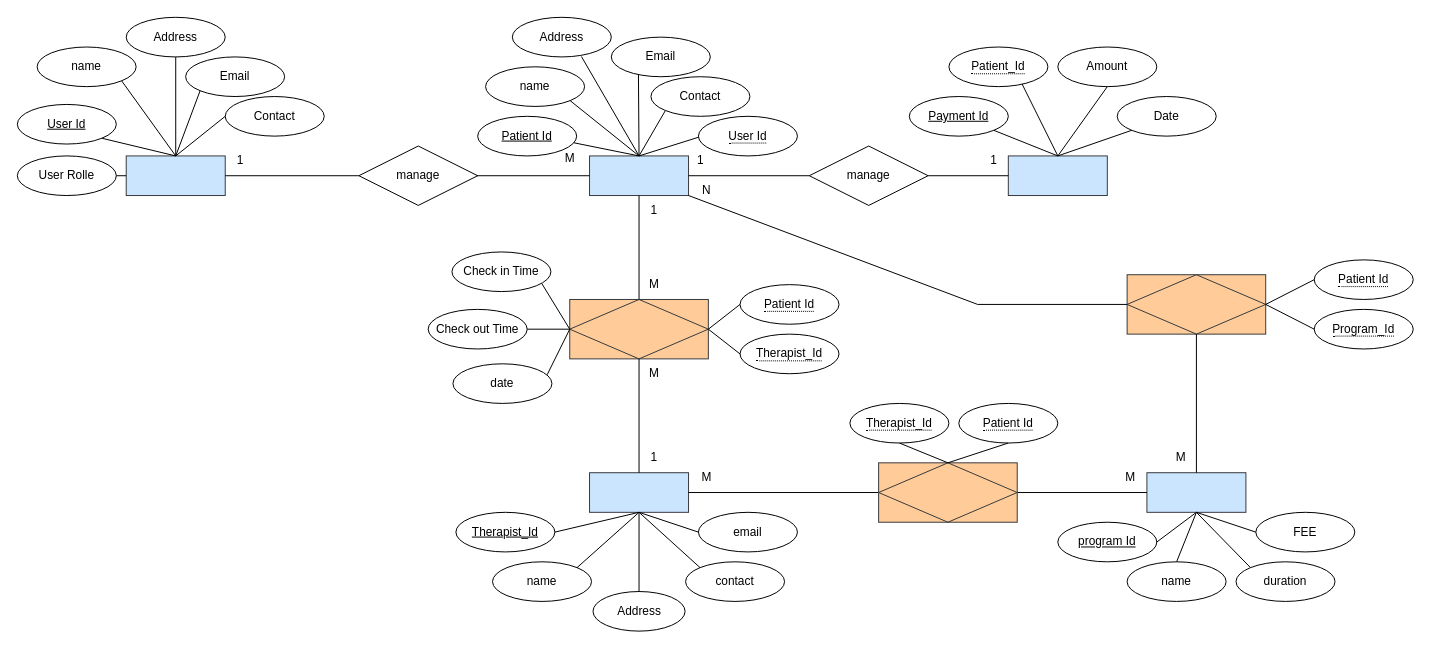
Image size: 1431x648. Some labels were removed from this diagram. The shapes that lost their labels are listed below. From the top down, each one's box as (x1, y1, x2, y2) in pixels, then its label:
(125, 155, 225, 196): User
(589, 155, 689, 196): Patient
(1007, 155, 1107, 196): Payment
(1126, 274, 1266, 334): Register
(569, 298, 708, 359): Session
(589, 472, 689, 512): Therapist
(878, 462, 1017, 522): Therapist-program
(1146, 472, 1246, 512): Therapy program
